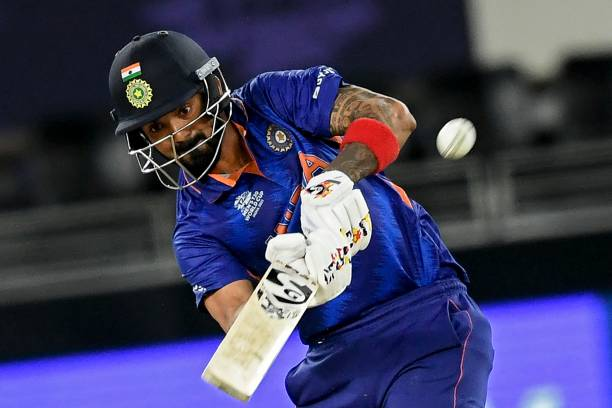bottom left: (188, 352, 223, 391)
bottom right: (234, 382, 269, 406)
top left: (257, 255, 286, 274)
top right: (307, 271, 329, 294)
